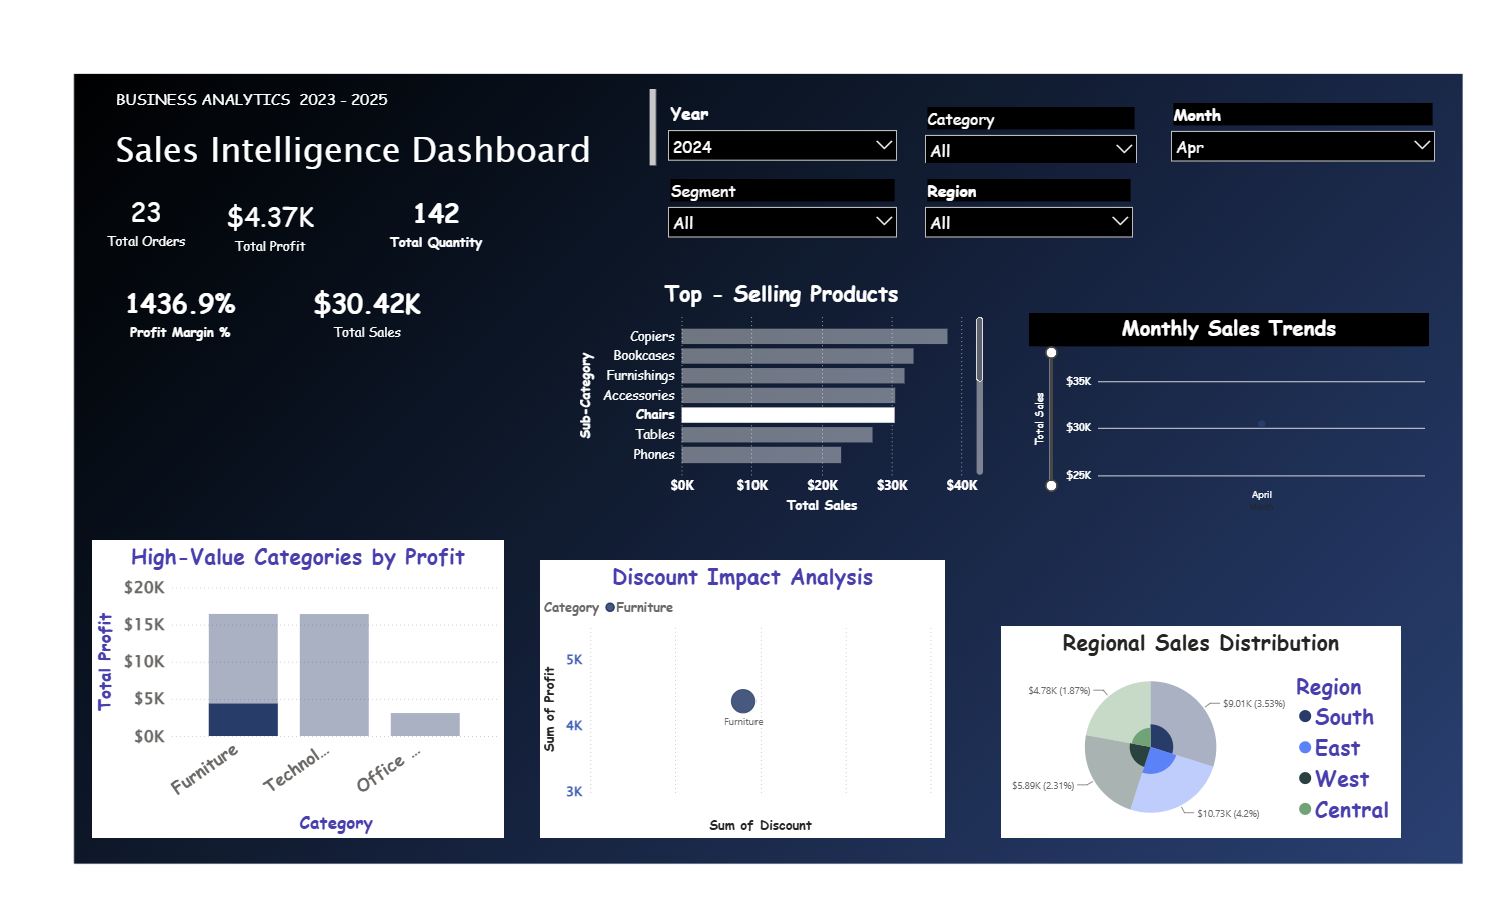

This screenshot's page, from the dashboard's own definition file:
{"tool":"powerbi","page":{"name":"Page 1","canvas":[2000,2000],"ordinal":0},"visuals":[{"type":"lineChart","title":"Monthly Sales Trends","fields":{"Category":["Data Table.Month"],"Y":["Data.Total Sales"]},"box":[1325,800,500,252.5],"z":0},{"type":"clusteredBarChart","title":"Top - Selling Products","fields":{"Category":["Data.Sub-Category"],"Y":["Data.Total Sales"]},"box":[760,755,512.5,300],"z":1000},{"type":"clusteredColumnChart","title":"High-Value Categories by Profit","fields":{"Category":["Data.Category"],"Y":["Data.Total Profit"]},"box":[155,1082.5,515,372.5],"z":2000},{"type":"pieChart","title":"Regional Sales Distribution","fields":{"Category":["Data.Region"],"Y":["Data.Total Sales"]},"box":[1290,1190,500,265],"z":3000},{"type":"donutChart","title":"Sales by Segment","fields":{"Category":["Data.Segment"],"Y":["Data.Total Sales"]},"box":[1987.5,132.5,482.5,382.5],"z":4000},{"type":"scatterChart","title":"Discount Impact Analysis","fields":{"X":["Sum(Data.Discount)"],"Y":["Sum(Data.Profit)"],"Size":["Sum(Data.Sales)"],"Series":["Data.Category"]},"box":[715,1107.5,505,347.5],"z":5000},{"type":"slicer","fields":{"Values":["Data.Year"]},"box":[865,530,305,82.5],"z":6000},{"type":"card","fields":{"Values":["Data.Total Sales"]},"box":[400,755,197.5,87.5],"z":7000},{"type":"card","fields":{"Values":["Data.Total Profit"]},"box":[302.5,647.5,150,87.5],"z":8000},{"type":"card","fields":{"Values":["Data.Total Orders"]},"box":[155,640,135,90],"z":9000},{"type":"card","fields":{"Values":["Data.Total Quantity"]},"box":[500,642.5,170,87.5],"z":10000},{"type":"card","fields":{"Values":["Data.Profit Margin %"]},"box":[155,755,220,87.5],"z":11000},{"type":"slicer","fields":{"Values":["Data.Segment"]},"box":[865,627.5,305,80],"z":12000},{"type":"slicer","fields":{"Values":["Data.Category"]},"box":[1185,537.5,285,75],"z":13000},{"type":"slicer","fields":{"Values":["Data.Region"]},"box":[1185,627.5,280,92.5],"z":14000},{"type":"slicer","fields":{"Values":["Data.Month"]},"box":[1492.5,532.5,350,107.5],"z":15000},{"type":"textbox","box":[180,515,685,112.5],"z":16000}]}

Visuals, with their boxes on the page's 2000x2000 design canvas (x1, y1, x2, y2). These are canvas units, not pixel positions in the 1506x918 screenshot, which may show the page scaled, cropped or inside an application window:
"Monthly Sales Trends" lineChart: [1325, 800, 1825, 1052]
"Top - Selling Products" clusteredBarChart: [760, 755, 1272, 1055]
"High-Value Categories by Profit" clusteredColumnChart: [155, 1082, 670, 1455]
"Regional Sales Distribution" pieChart: [1290, 1190, 1790, 1455]
"Sales by Segment" donutChart: [1988, 132, 2470, 515]
"Discount Impact Analysis" scatterChart: [715, 1108, 1220, 1455]
slicer - Data.Year: [865, 530, 1170, 612]
card - Data.Total Sales: [400, 755, 598, 842]
card - Data.Total Profit: [302, 648, 452, 735]
card - Data.Total Orders: [155, 640, 290, 730]
card - Data.Total Quantity: [500, 642, 670, 730]
card - Data.Profit Margin %: [155, 755, 375, 842]
slicer - Data.Segment: [865, 628, 1170, 708]
slicer - Data.Category: [1185, 538, 1470, 612]
slicer - Data.Region: [1185, 628, 1465, 720]
slicer - Data.Month: [1492, 532, 1842, 640]
textbox: [180, 515, 865, 628]
